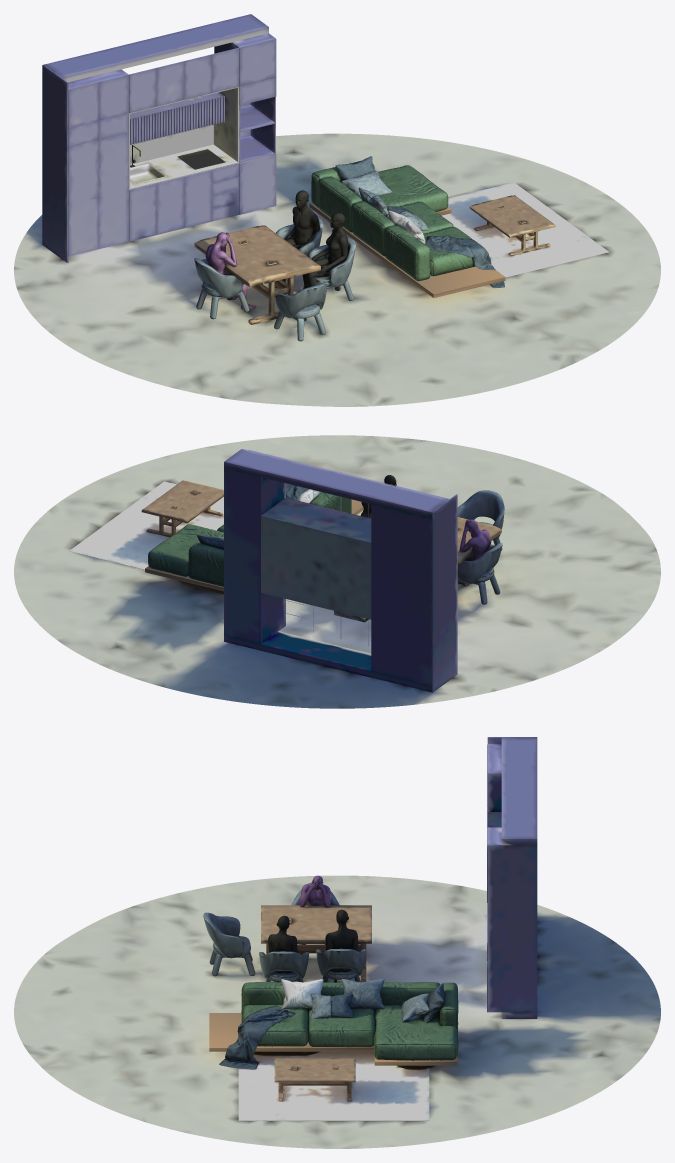
Rendered from meal.glb.
3 views of the same model, one above another, from view 1: azimuth 30°, elevation 25°; view 2: azimuth 150°, elevation 25°; view 3: azimuth 270°, elevation 25° (orthographic).
Parts seen in each view (by area): view 1: Circle, armoire, salon, table, parents, ben; view 2: Circle, armoire, salon, ben, table; view 3: Circle, salon, armoire, table, parents, ben.
Boxes of the visible parts, bbox=[...] form: Circle: bbox=[14, 133, 660, 406]; armoire: bbox=[42, 14, 276, 262]; salon: bbox=[309, 156, 609, 297]; table: bbox=[194, 225, 327, 341]; parents: bbox=[274, 190, 355, 309]; ben: bbox=[194, 232, 256, 319]; Circle: bbox=[14, 435, 660, 708]; armoire: bbox=[224, 449, 457, 692]; salon: bbox=[69, 480, 363, 594]; ben: bbox=[457, 519, 502, 604]; table: bbox=[457, 490, 504, 564]; Circle: bbox=[14, 875, 660, 1148]; salon: bbox=[209, 979, 458, 1120]; armoire: bbox=[487, 737, 537, 1018]; table: bbox=[203, 905, 371, 982]; parents: bbox=[259, 909, 366, 982]; ben: bbox=[292, 875, 339, 954].
Size of the model in its own units: 9.12 by 2.82 by 9.12.
